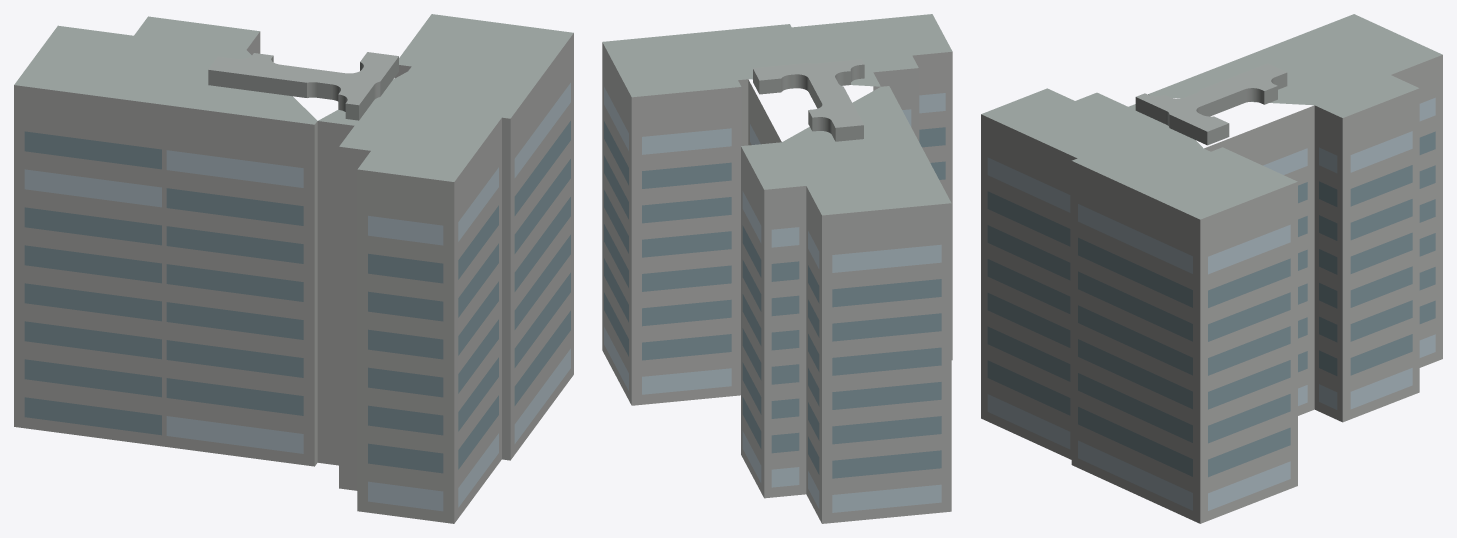
The model's file is fallback-gaepo-xi-presidence-415.glb.
The picture shows the model from 3 angles, left to right: view 1: azimuth 30°, elevation 25°; view 2: azimuth 150°, elevation 25°; view 3: azimuth 270°, elevation 25°; orthographic projection. The views are drawn at different scales.
Parts seen in each view (by area): view 1: fallback-gaepo-xi-presidence-415; view 2: fallback-gaepo-xi-presidence-415; view 3: fallback-gaepo-xi-presidence-415.
Part boxes in pixels (x1=…): fallback-gaepo-xi-presidence-415: x1=14, y1=14, x2=573, y2=523; fallback-gaepo-xi-presidence-415: x1=602, y1=14, x2=952, y2=523; fallback-gaepo-xi-presidence-415: x1=981, y1=14, x2=1442, y2=523.
Bounding box in the file's own units: 39.79 × 28.69 × 37.76.
